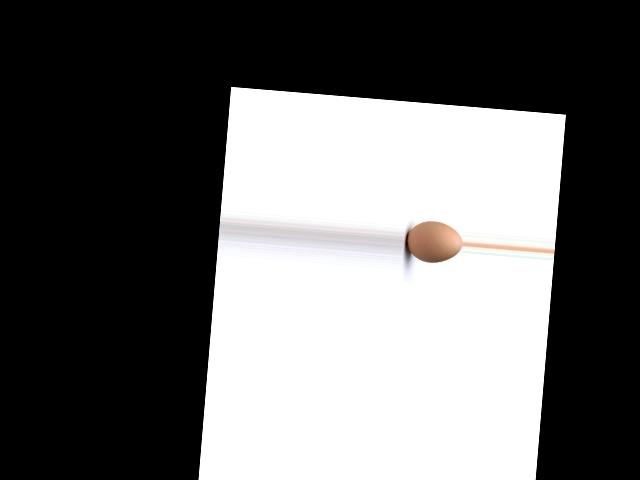egg: (404, 218, 463, 264)
